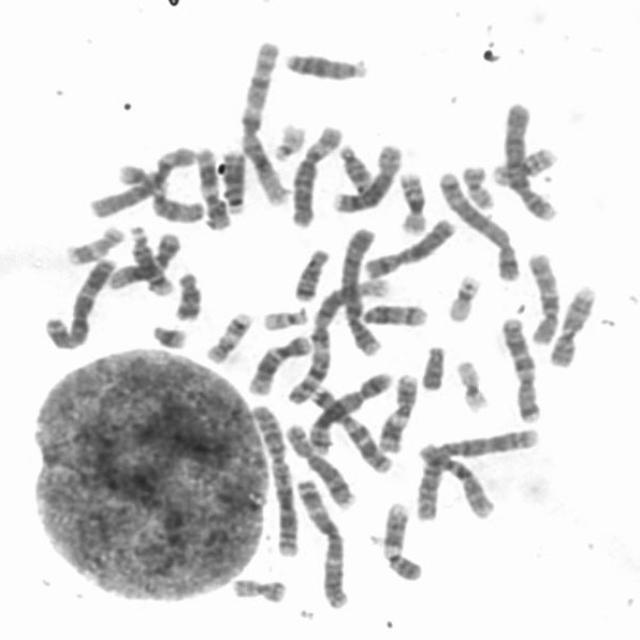A1: (284, 270, 395, 408), (235, 36, 292, 208)
A2: (409, 422, 545, 522), (247, 399, 301, 558)
A3: (292, 472, 352, 609), (39, 250, 119, 350)
B4: (499, 96, 562, 224), (336, 222, 385, 358)
B5: (433, 164, 523, 281), (303, 366, 395, 454)
C10: (414, 438, 496, 520), (522, 246, 565, 346)
C11: (373, 368, 421, 454), (192, 142, 233, 232)
C12: (103, 224, 184, 292), (244, 330, 314, 396)
C6: (84, 140, 200, 220), (286, 121, 346, 228)
C7: (304, 380, 394, 474), (498, 311, 544, 424)
C8: (280, 418, 359, 509), (328, 138, 404, 214)
C9: (544, 281, 600, 368), (378, 496, 426, 583)
D13: (280, 45, 370, 82), (217, 144, 248, 214)
D14: (124, 220, 176, 296), (356, 298, 431, 328)
D15: (147, 188, 206, 224), (335, 140, 375, 192)
E16: (488, 143, 560, 187), (394, 167, 431, 235)
E17: (201, 306, 254, 366), (60, 220, 126, 267)
E18: (290, 242, 333, 302), (169, 266, 205, 323)
F19: (451, 354, 492, 414), (442, 269, 484, 324)
F20: (225, 572, 290, 604), (457, 160, 498, 210)
G21: (146, 319, 191, 351), (118, 161, 159, 189)
G22: (268, 118, 308, 162), (258, 302, 310, 332)
X: (358, 212, 458, 280)
Y: (417, 340, 448, 392)
